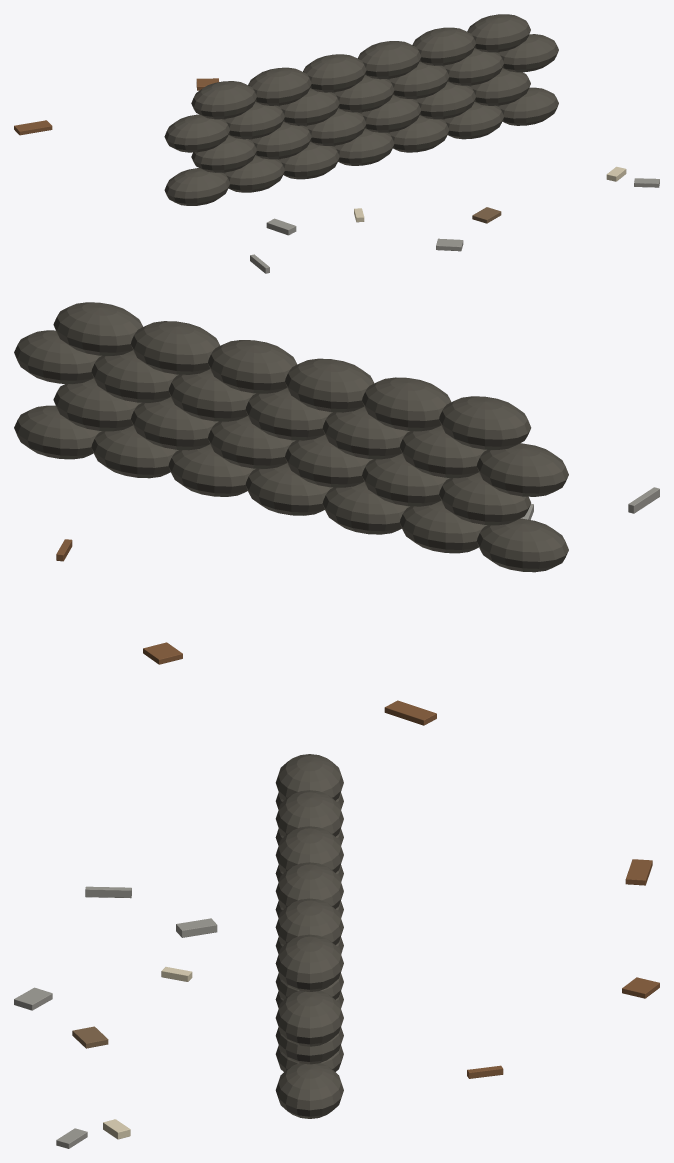
File: dz_barricade_sandbag_wall_premium.glb
The picture shows the model from 3 angles, top to bottom: view 1: azimuth 30°, elevation 25°; view 2: azimuth 150°, elevation 25°; view 3: azimuth 270°, elevation 25°; orthographic projection. The views are drawn at different scales.
Visible parts, largest first — view 1: sandbag_3_0, sandbag_2_0, sandbag_0_0, sandbag_3_4, sandbag_3_5, sandbag_3_2, sandbag_3_1, sandbag_3_3, sandbag_1_0, sandbag_0_6, sandbag_2_6, sandbag_1_1 (+15 smaller); view 2: sandbag_3_0, sandbag_0_0, sandbag_2_0, sandbag_3_1, sandbag_3_3, sandbag_3_4, sandbag_3_5, sandbag_3_2, sandbag_1_0, sandbag_0_6, sandbag_2_6, sandbag_0_2 (+15 smaller); view 3: sandbag_3_5, sandbag_2_6, sandbag_0_6, sandbag_3_1, sandbag_3_2, sandbag_3_3, sandbag_3_0, sandbag_3_4, sandbag_1_5, sandbag_debris_01, sandbag_debris_02, sandbag_debris_05.
Boxes of the visible parts, left/top/right/bottom form: sandbag_3_0: left=191, top=81, right=256, bottom=119; sandbag_2_0: left=164, top=114, right=229, bottom=152; sandbag_0_0: left=164, top=168, right=229, bottom=205; sandbag_3_4: left=412, top=27, right=475, bottom=65; sandbag_3_5: left=467, top=14, right=530, bottom=52; sandbag_3_2: left=303, top=54, right=366, bottom=92; sandbag_3_1: left=248, top=67, right=311, bottom=105; sandbag_3_3: left=357, top=41, right=420, bottom=79; sandbag_1_0: left=191, top=135, right=256, bottom=172; sandbag_0_6: left=496, top=87, right=558, bottom=125; sandbag_2_6: left=497, top=34, right=558, bottom=72; sandbag_1_1: left=249, top=121, right=311, bottom=159; sandbag_3_0: left=439, top=396, right=531, bottom=449; sandbag_0_0: left=476, top=518, right=568, bottom=572; sandbag_2_0: left=477, top=443, right=568, bottom=496; sandbag_3_1: left=362, top=377, right=451, bottom=431; sandbag_3_3: left=208, top=340, right=297, bottom=393; sandbag_3_4: left=131, top=321, right=220, bottom=374; sandbag_3_5: left=53, top=302, right=142, bottom=355; sandbag_3_2: left=285, top=358, right=374, bottom=412; sandbag_1_0: left=439, top=472, right=531, bottom=525; sandbag_0_6: left=14, top=405, right=101, bottom=459; sandbag_2_6: left=14, top=330, right=101, bottom=383; sandbag_0_2: left=322, top=482, right=409, bottom=534; sandbag_3_5: left=275, top=934, right=343, bottom=991; sandbag_2_6: left=275, top=990, right=343, bottom=1046; sandbag_0_6: left=275, top=1063, right=343, bottom=1118; sandbag_3_1: left=275, top=790, right=343, bottom=836; sandbag_3_2: left=275, top=826, right=343, bottom=872; sandbag_3_3: left=275, top=862, right=343, bottom=908; sandbag_3_0: left=275, top=754, right=343, bottom=800; sandbag_3_4: left=275, top=898, right=343, bottom=944; sandbag_1_5: left=275, top=1027, right=343, bottom=1064; sandbag_debris_01: left=176, top=918, right=217, bottom=937; sandbag_debris_02: left=14, top=987, right=52, bottom=1010; sandbag_debris_05: left=625, top=859, right=652, bottom=885.
Bounding box in the file's own units: 3.55 × 0.9281 × 3.4.
